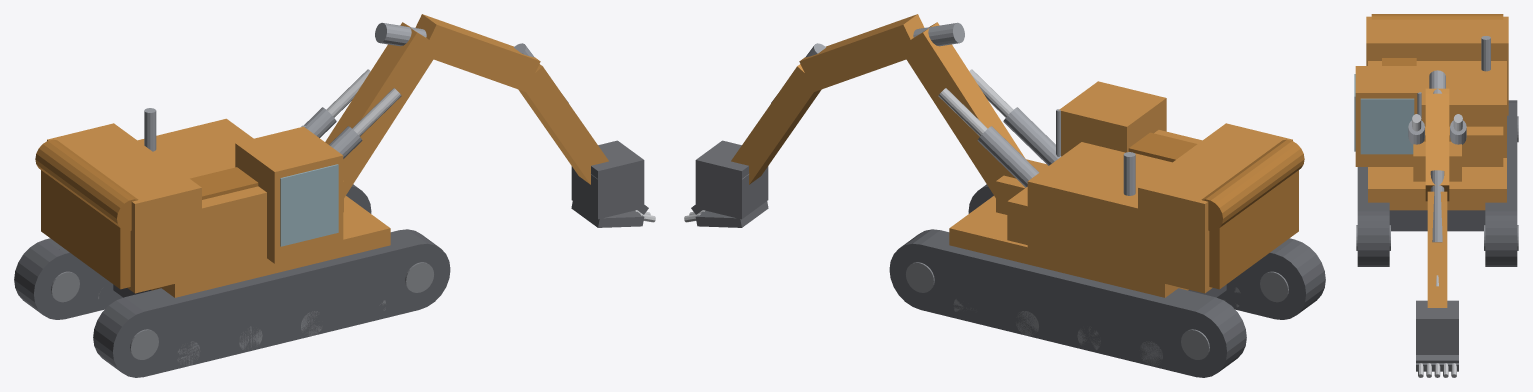
Rendered from excavadora.glb.
3 views of the same model, side by side, from view 1: azimuth 30°, elevation 25°; view 2: azimuth 150°, elevation 25°; view 3: azimuth 270°, elevation 25° (orthographic). The views are drawn at different scales.
Visible parts, largest first — view 1: world; view 2: world; view 3: world.
Part boxes in pixels (bbox=[...]): world: bbox=[14, 14, 655, 377]; world: bbox=[684, 14, 1325, 377]; world: bbox=[1354, 14, 1518, 377].
Bounding box in the file's own units: 7.81 × 3.27 × 2.37.
